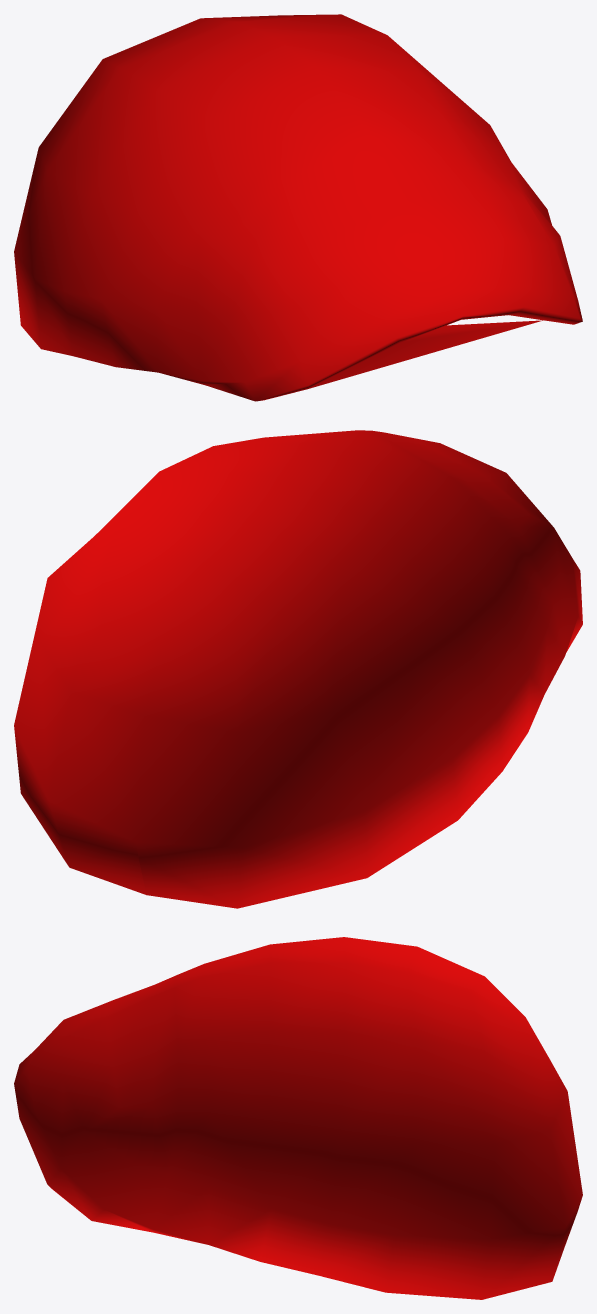
File: Hat_NewsBoyCap.glb
3 views of the same model, one above another, from view 1: azimuth 30°, elevation 25°; view 2: azimuth 150°, elevation 25°; view 3: azimuth 270°, elevation 25° (orthographic). The views are drawn at different scales.
Parts seen in each view (by area): view 1: Hat_NewsBoyCap; view 2: Hat_NewsBoyCap; view 3: Hat_NewsBoyCap.
Boxes of the visible parts, bbox=[...] form: Hat_NewsBoyCap: bbox=[14, 14, 582, 401]; Hat_NewsBoyCap: bbox=[14, 430, 582, 908]; Hat_NewsBoyCap: bbox=[14, 937, 582, 1299].
Bounding box in the file's own units: 0.2657 × 0.1921 × 0.3474.
